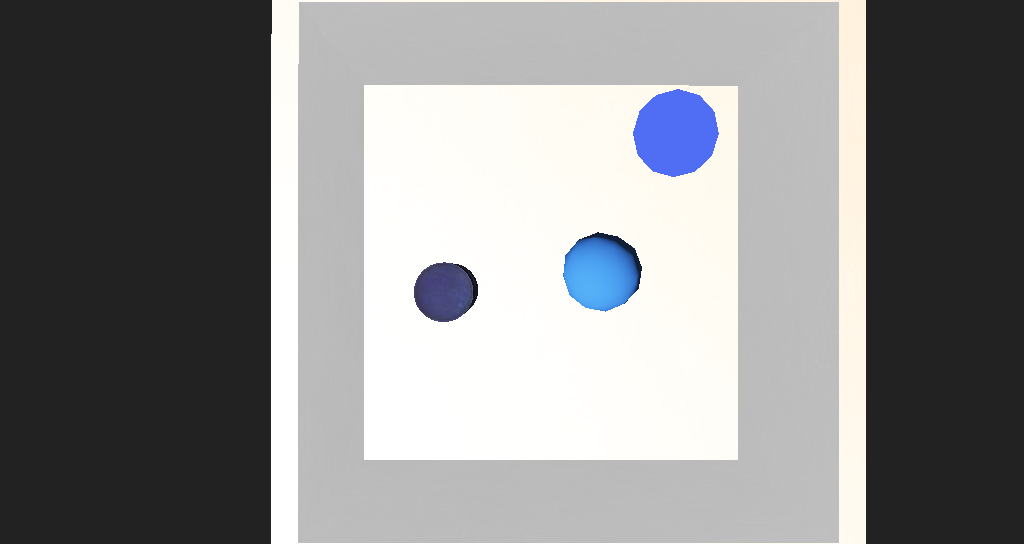cone: (391, 265, 445, 298)
cylinder: (563, 162, 637, 220)
sphere: (515, 243, 576, 291)
